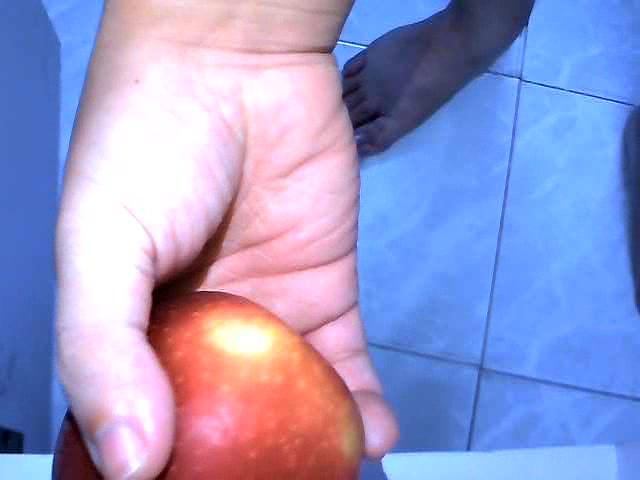apple: (50, 283, 368, 479)
